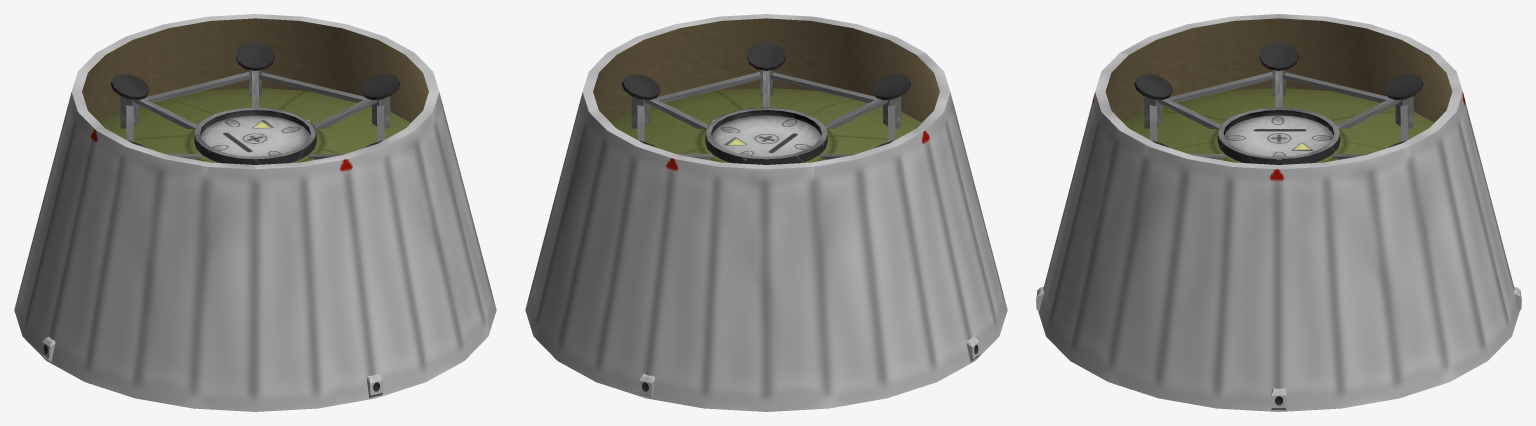
3 views of the same model, side by side, from view 1: azimuth 30°, elevation 25°; view 2: azimuth 150°, elevation 25°; view 3: azimuth 270°, elevation 25° (orthographic).
Parts seen in each view (by area): view 1: Adapter, TankCap, Cylinder008, Cylinder017, Box005, Box008, Cylinder018, Cylinder010, Box010, Box002; view 2: Adapter, TankCap, Cylinder008, Cylinder021, Box017, Box004, Cylinder020, Cylinder010, Box016, Box002; view 3: Adapter, TankCap, Cylinder008, Cylinder019, Box011, Box014, Cylinder020, Cylinder018, Box016, Box010.
Part boxes in pixels (x1,y1,x2,y2): Adapter: (14,14,496,411); TankCap: (100,88,410,162); Cylinder008: (194,107,316,164); Cylinder017: (236,42,274,70); Box005: (259,72,373,106); Box008: (137,72,251,107); Cylinder018: (110,74,149,99); Cylinder010: (361,74,400,99); Box010: (133,98,197,129); Box002: (313,98,377,129); Adapter: (525,14,1007,411); TankCap: (611,88,921,162); Cylinder008: (705,107,827,164); Cylinder021: (747,42,785,70); Box017: (770,72,884,106); Box004: (648,72,762,107); Cylinder020: (872,74,911,99); Cylinder010: (621,74,660,99); Box016: (824,98,888,129); Box002: (644,98,708,129); Adapter: (1038,14,1519,411); TankCap: (1124,88,1433,162); Cylinder008: (1217,107,1340,164); Cylinder019: (1259,42,1298,70); Box011: (1282,72,1396,106); Box014: (1160,72,1274,106); Cylinder020: (1134,74,1172,99); Cylinder018: (1385,74,1423,99); Box016: (1157,98,1220,129); Box010: (1337,98,1400,129).
Size of what is drawn, in the model's own units: 2.52 by 2.52 by 1.25.
1 material, 1 textured.
